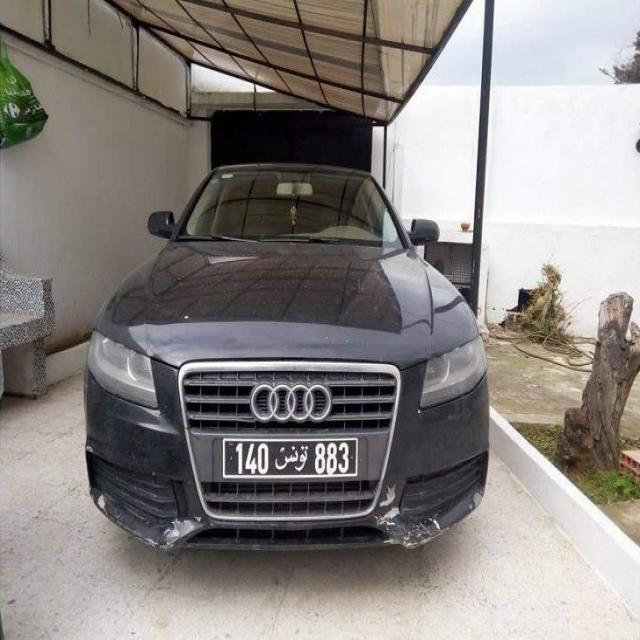licence plate: (223, 440, 358, 477)
